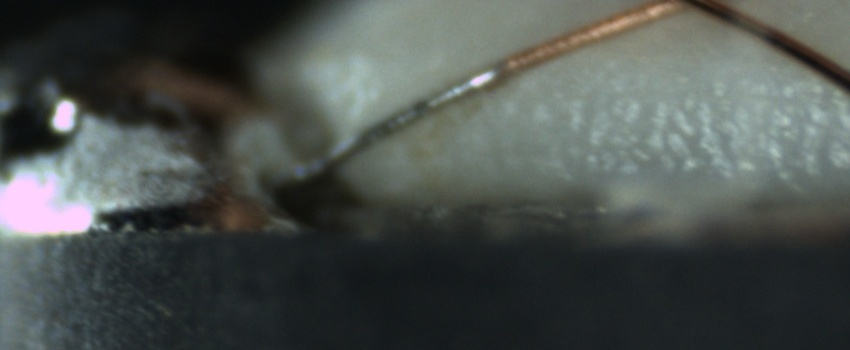DL: (510, 70, 830, 123)
TS: (296, 62, 501, 184)
TTCW: (291, 32, 576, 184)
